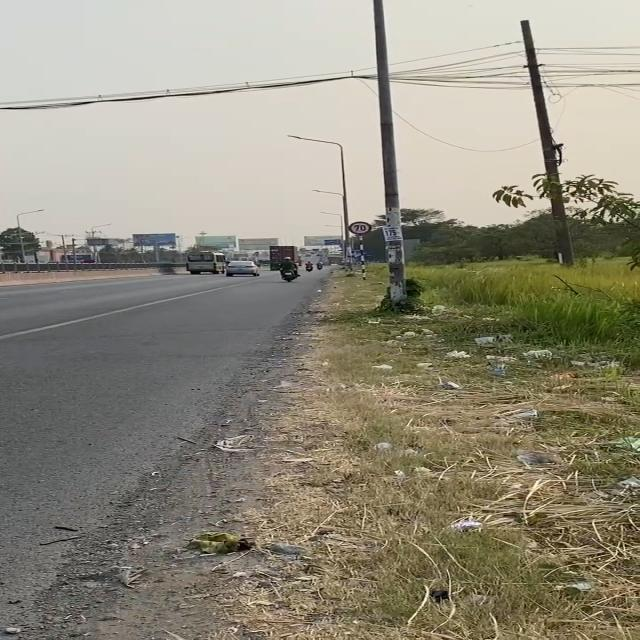127-toc-do-toi-da-70: (348, 221, 372, 235)
